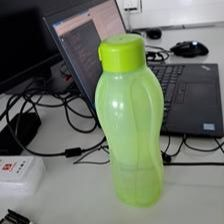bottle: (94, 31, 167, 205)
